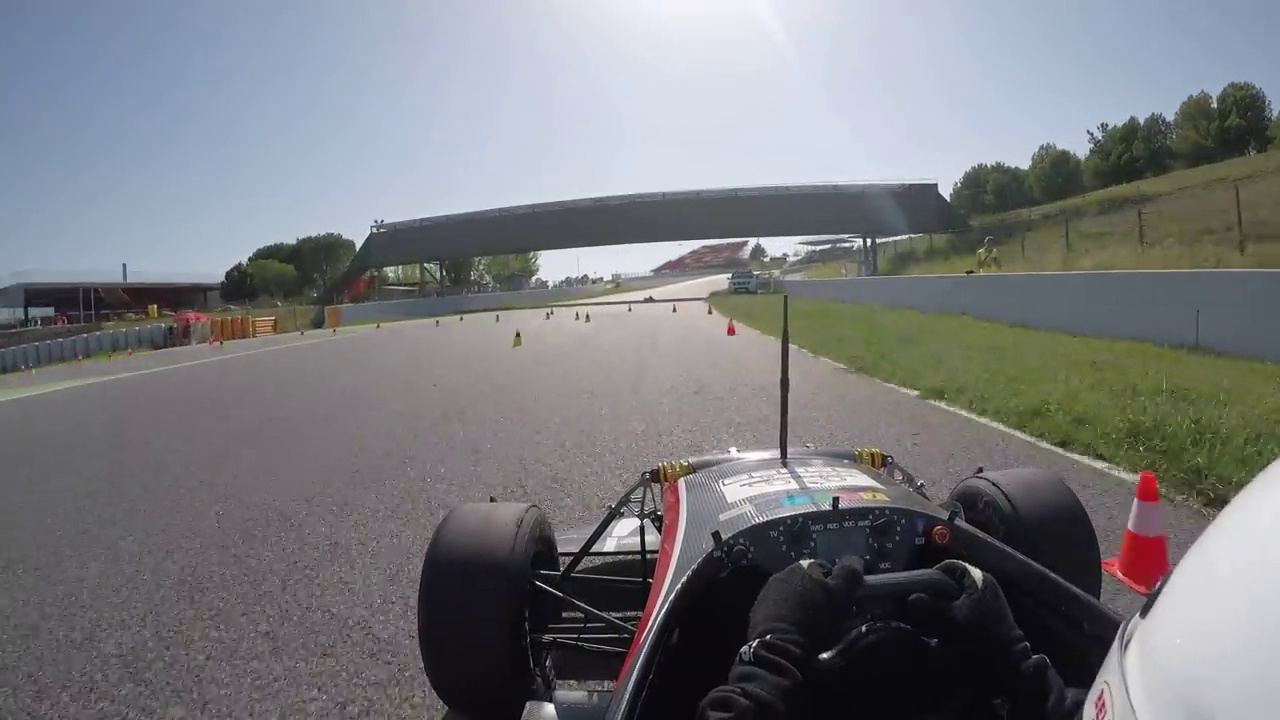Cone: (1103, 470, 1195, 588)
